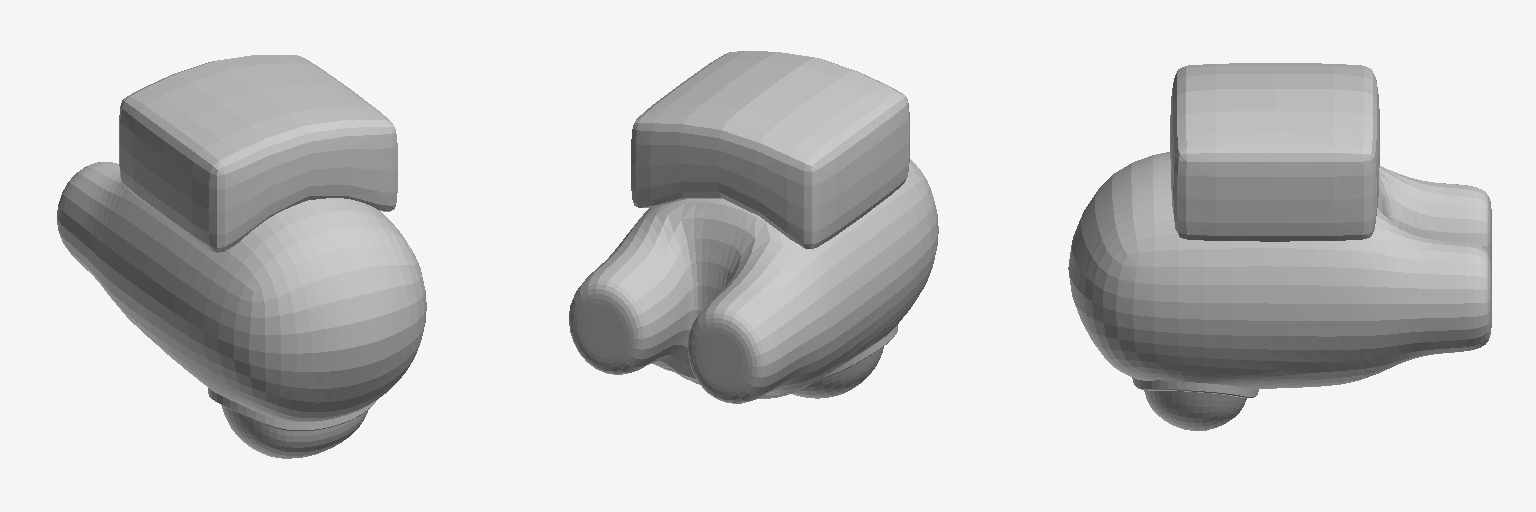
The model's file is glassmogus.obj.
3 views of the same model, side by side, from view 1: azimuth 30°, elevation 25°; view 2: azimuth 150°, elevation 25°; view 3: azimuth 270°, elevation 25° (orthographic).
Visible parts, largest first — view 1: mogusmap; view 2: mogusmap; view 3: mogusmap.
Part boxes in pixels (bbox=[...]): mogusmap: bbox=[57, 55, 426, 458]; mogusmap: bbox=[569, 51, 938, 403]; mogusmap: bbox=[1068, 63, 1491, 430].
Size of the model in its own units: 1.89 by 2.8 by 3.21.